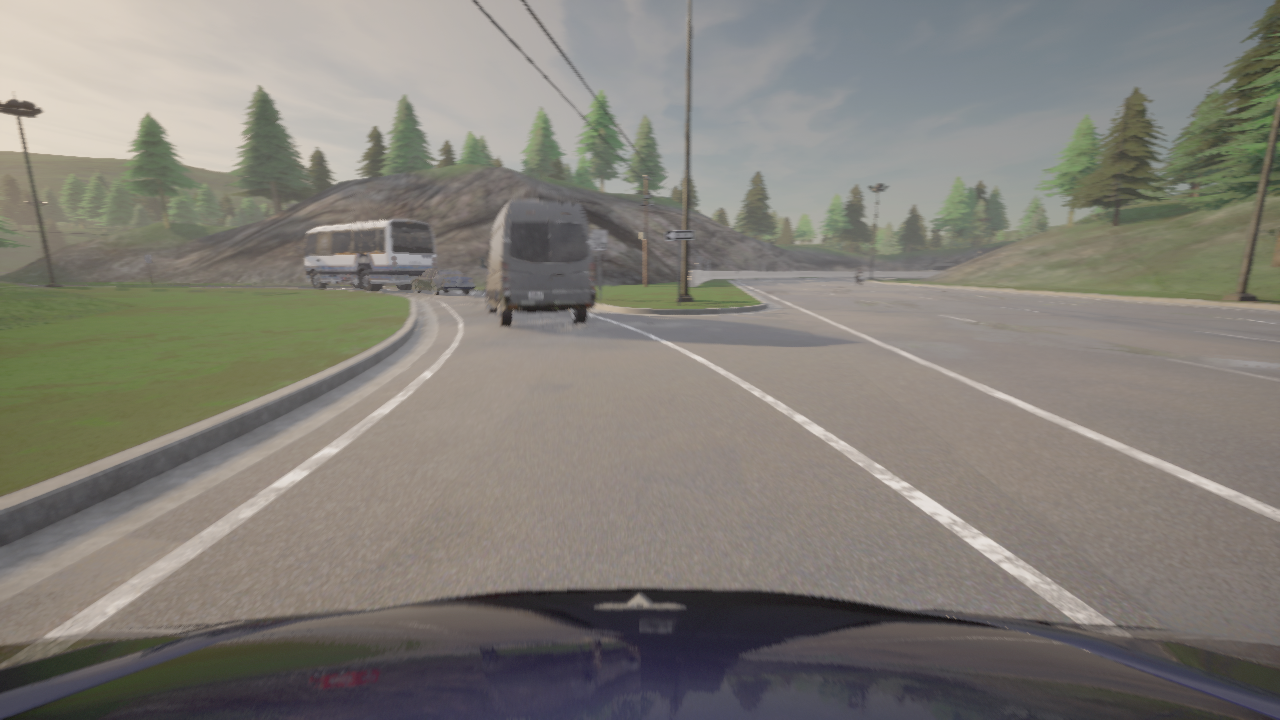cyclist: (0, 588, 1279, 719), (479, 200, 595, 326), (296, 219, 437, 291), (411, 268, 475, 295), (852, 273, 864, 286)
